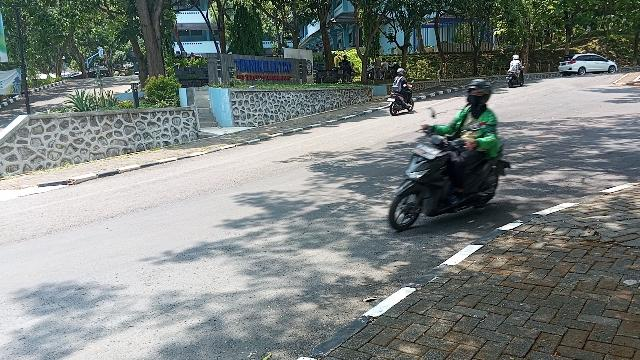helm: (469, 80, 493, 106), (398, 69, 406, 77), (513, 56, 519, 61)
motor: (392, 138, 509, 230), (389, 94, 416, 115), (507, 72, 525, 89)
